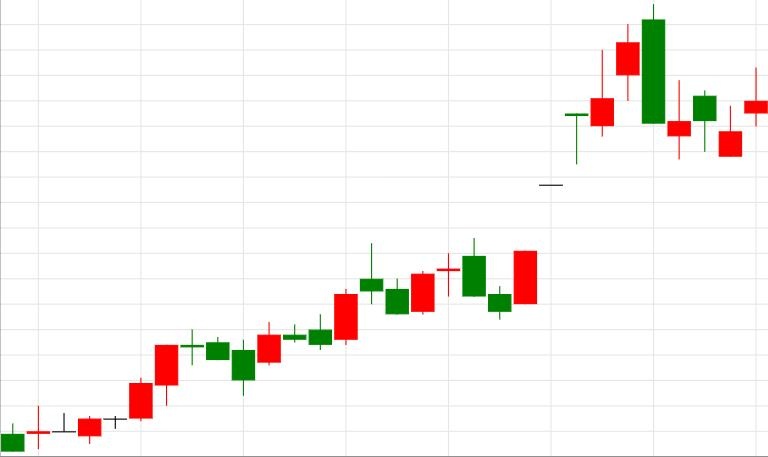bearish_engulfing_fall: (514, 2, 665, 305)
evening_star_fall: (79, 243, 408, 443)
